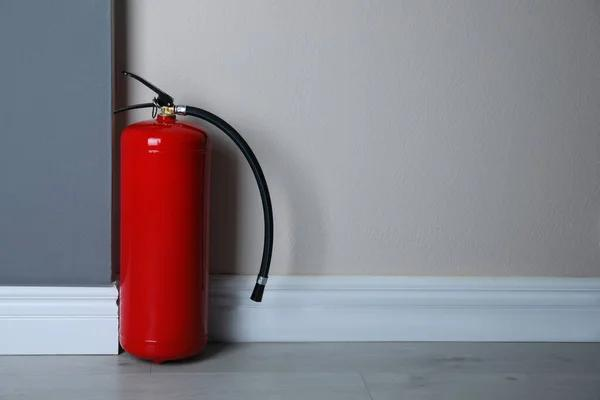floor-kept: (103, 67, 290, 369)
